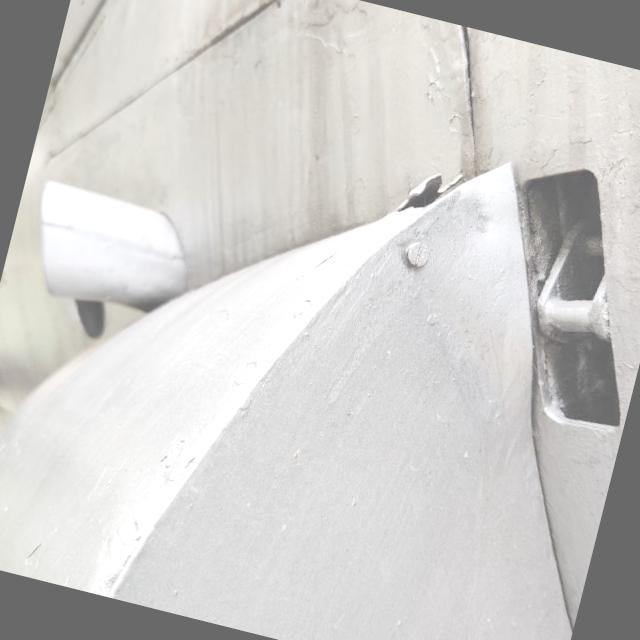crack: (372, 140, 481, 246)
